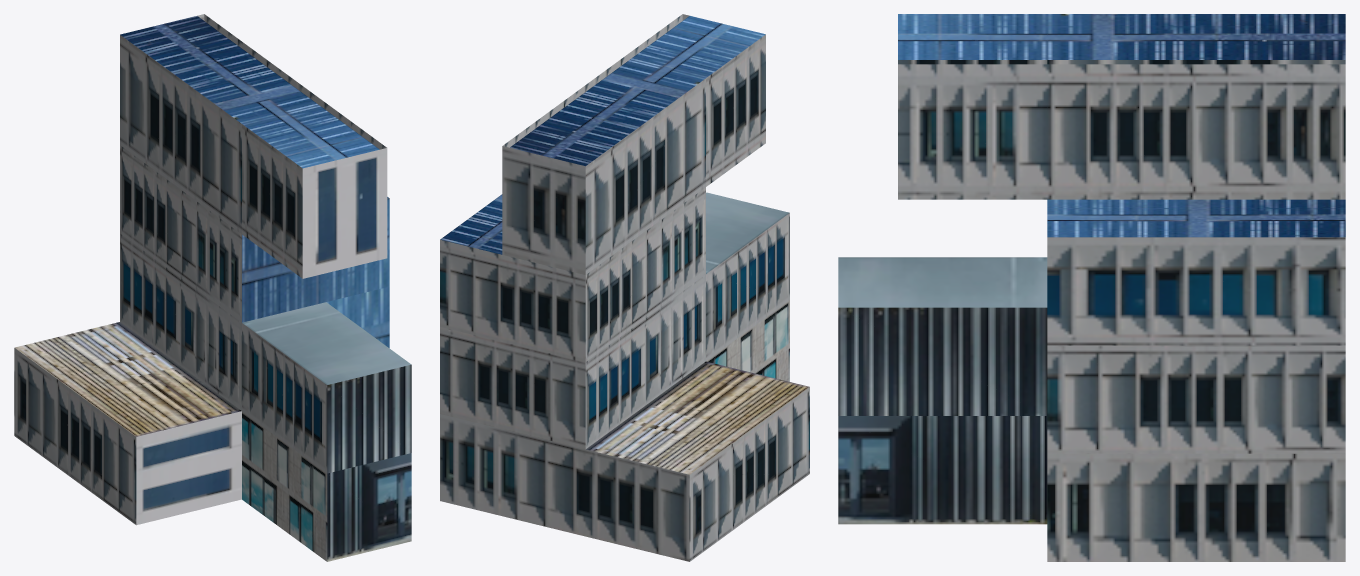
File: Ufficio03.fbx
The picture shows the model from 3 angles, left to right: view 1: azimuth 30°, elevation 25°; view 2: azimuth 150°, elevation 25°; view 3: azimuth 270°, elevation 25°; orthographic projection. The views are drawn at different scales.
Visible parts, largest first — view 1: Ufficio03; view 2: Ufficio03; view 3: Ufficio03.
Part boxes in pixels (left/top/right/bottom): Ufficio03: left=14, top=14, right=411, bottom=561; Ufficio03: left=440, top=14, right=809, bottom=561; Ufficio03: left=838, top=14, right=1345, bottom=561.
Size of the model in its own units: 1200 by 1700 by 1700.
